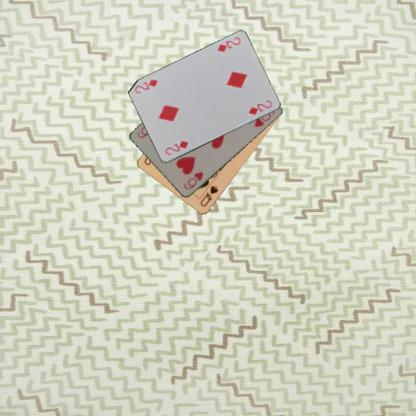2d: (162, 138, 190, 157), (214, 34, 242, 53)
6h: (182, 169, 204, 191)
Qs: (198, 183, 220, 208)
